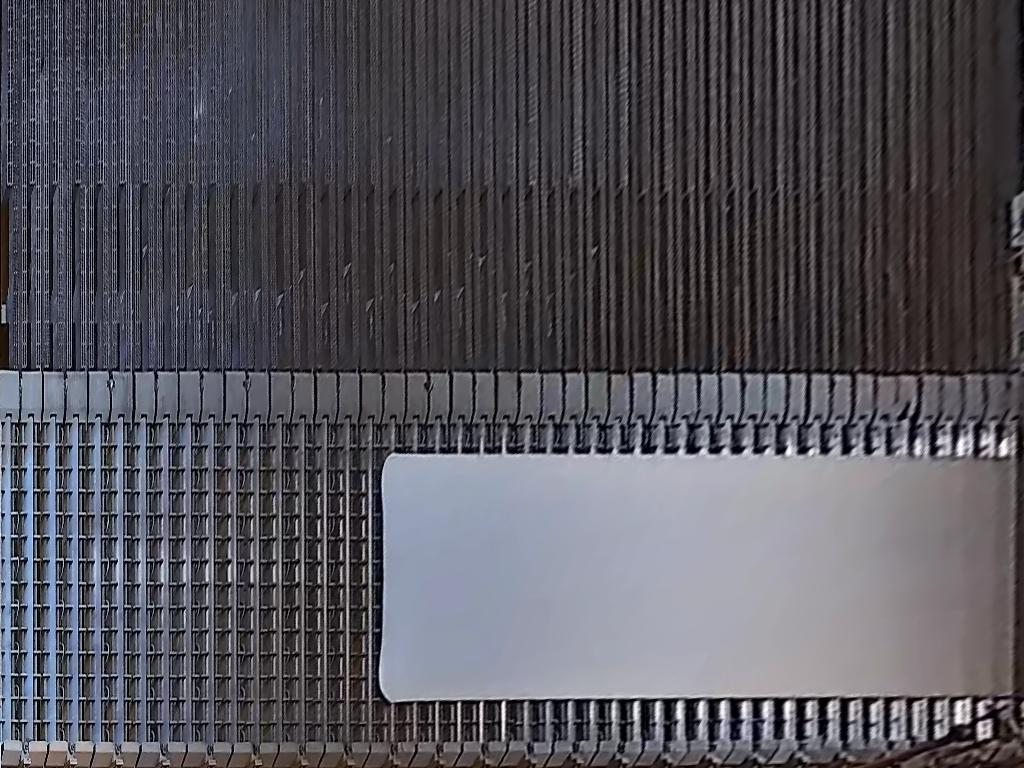steel: (377, 453, 1024, 700)
